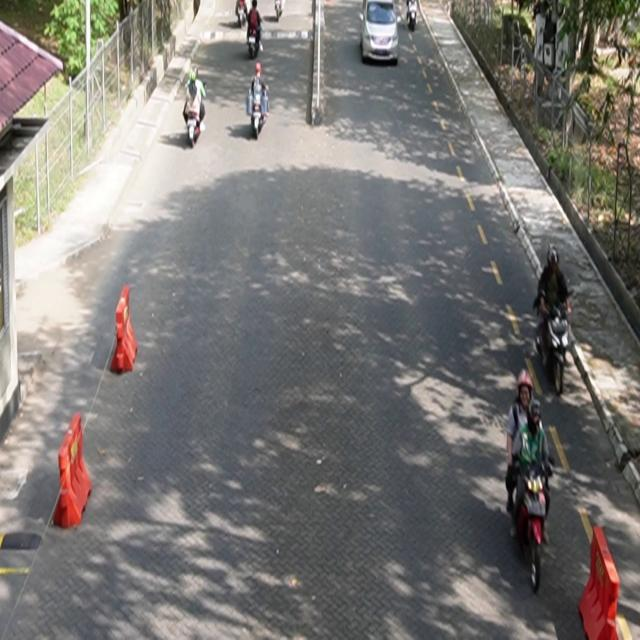car: (360, 1, 400, 66)
